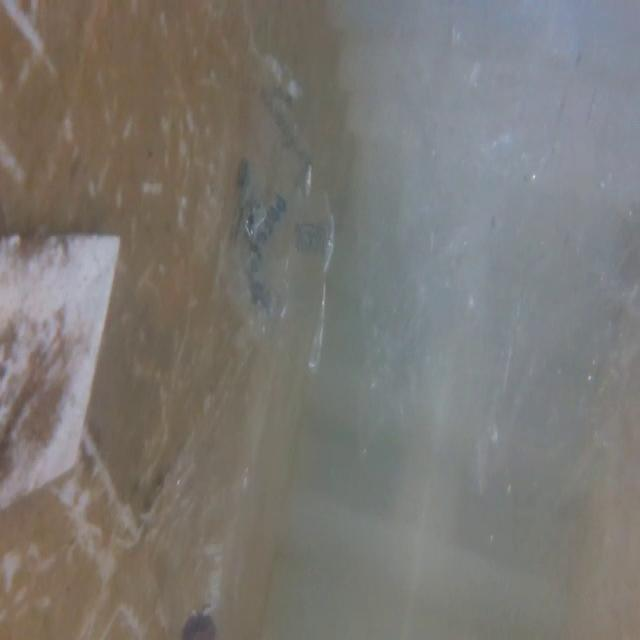metal: (0, 219, 131, 532)
plastic bags: (358, 7, 624, 510), (210, 52, 348, 388)
plastic bottle: (167, 445, 266, 640)
